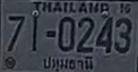0: (58, 16, 74, 51)
1: (32, 14, 38, 50)
2: (76, 16, 94, 52)
3: (114, 17, 131, 52)
4: (95, 15, 112, 52)
7: (8, 15, 24, 51)
PTE: (42, 55, 95, 72)
